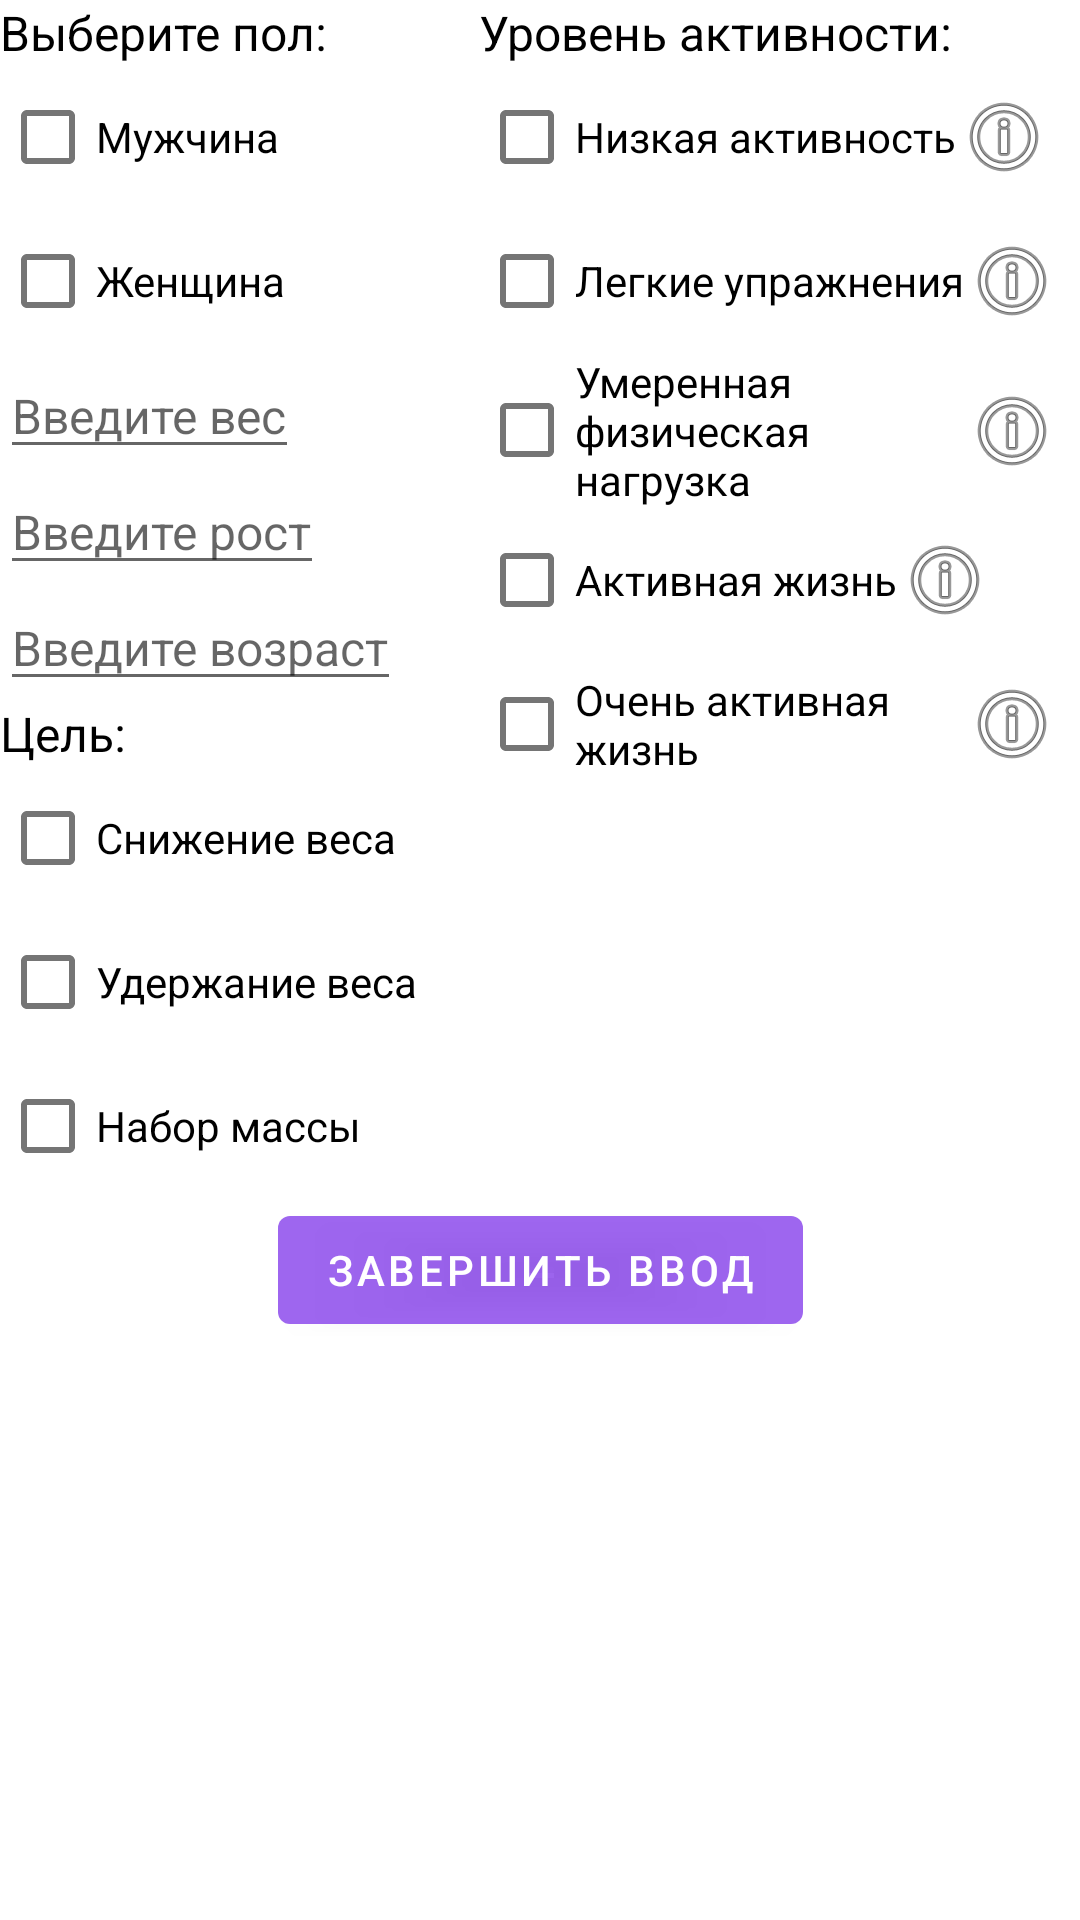

Where to tap for icons on this 1080×1920 app screen, as point (x, y):
info details: point (1004, 137), point (1012, 281), point (1012, 431), point (945, 580), point (1012, 724)
